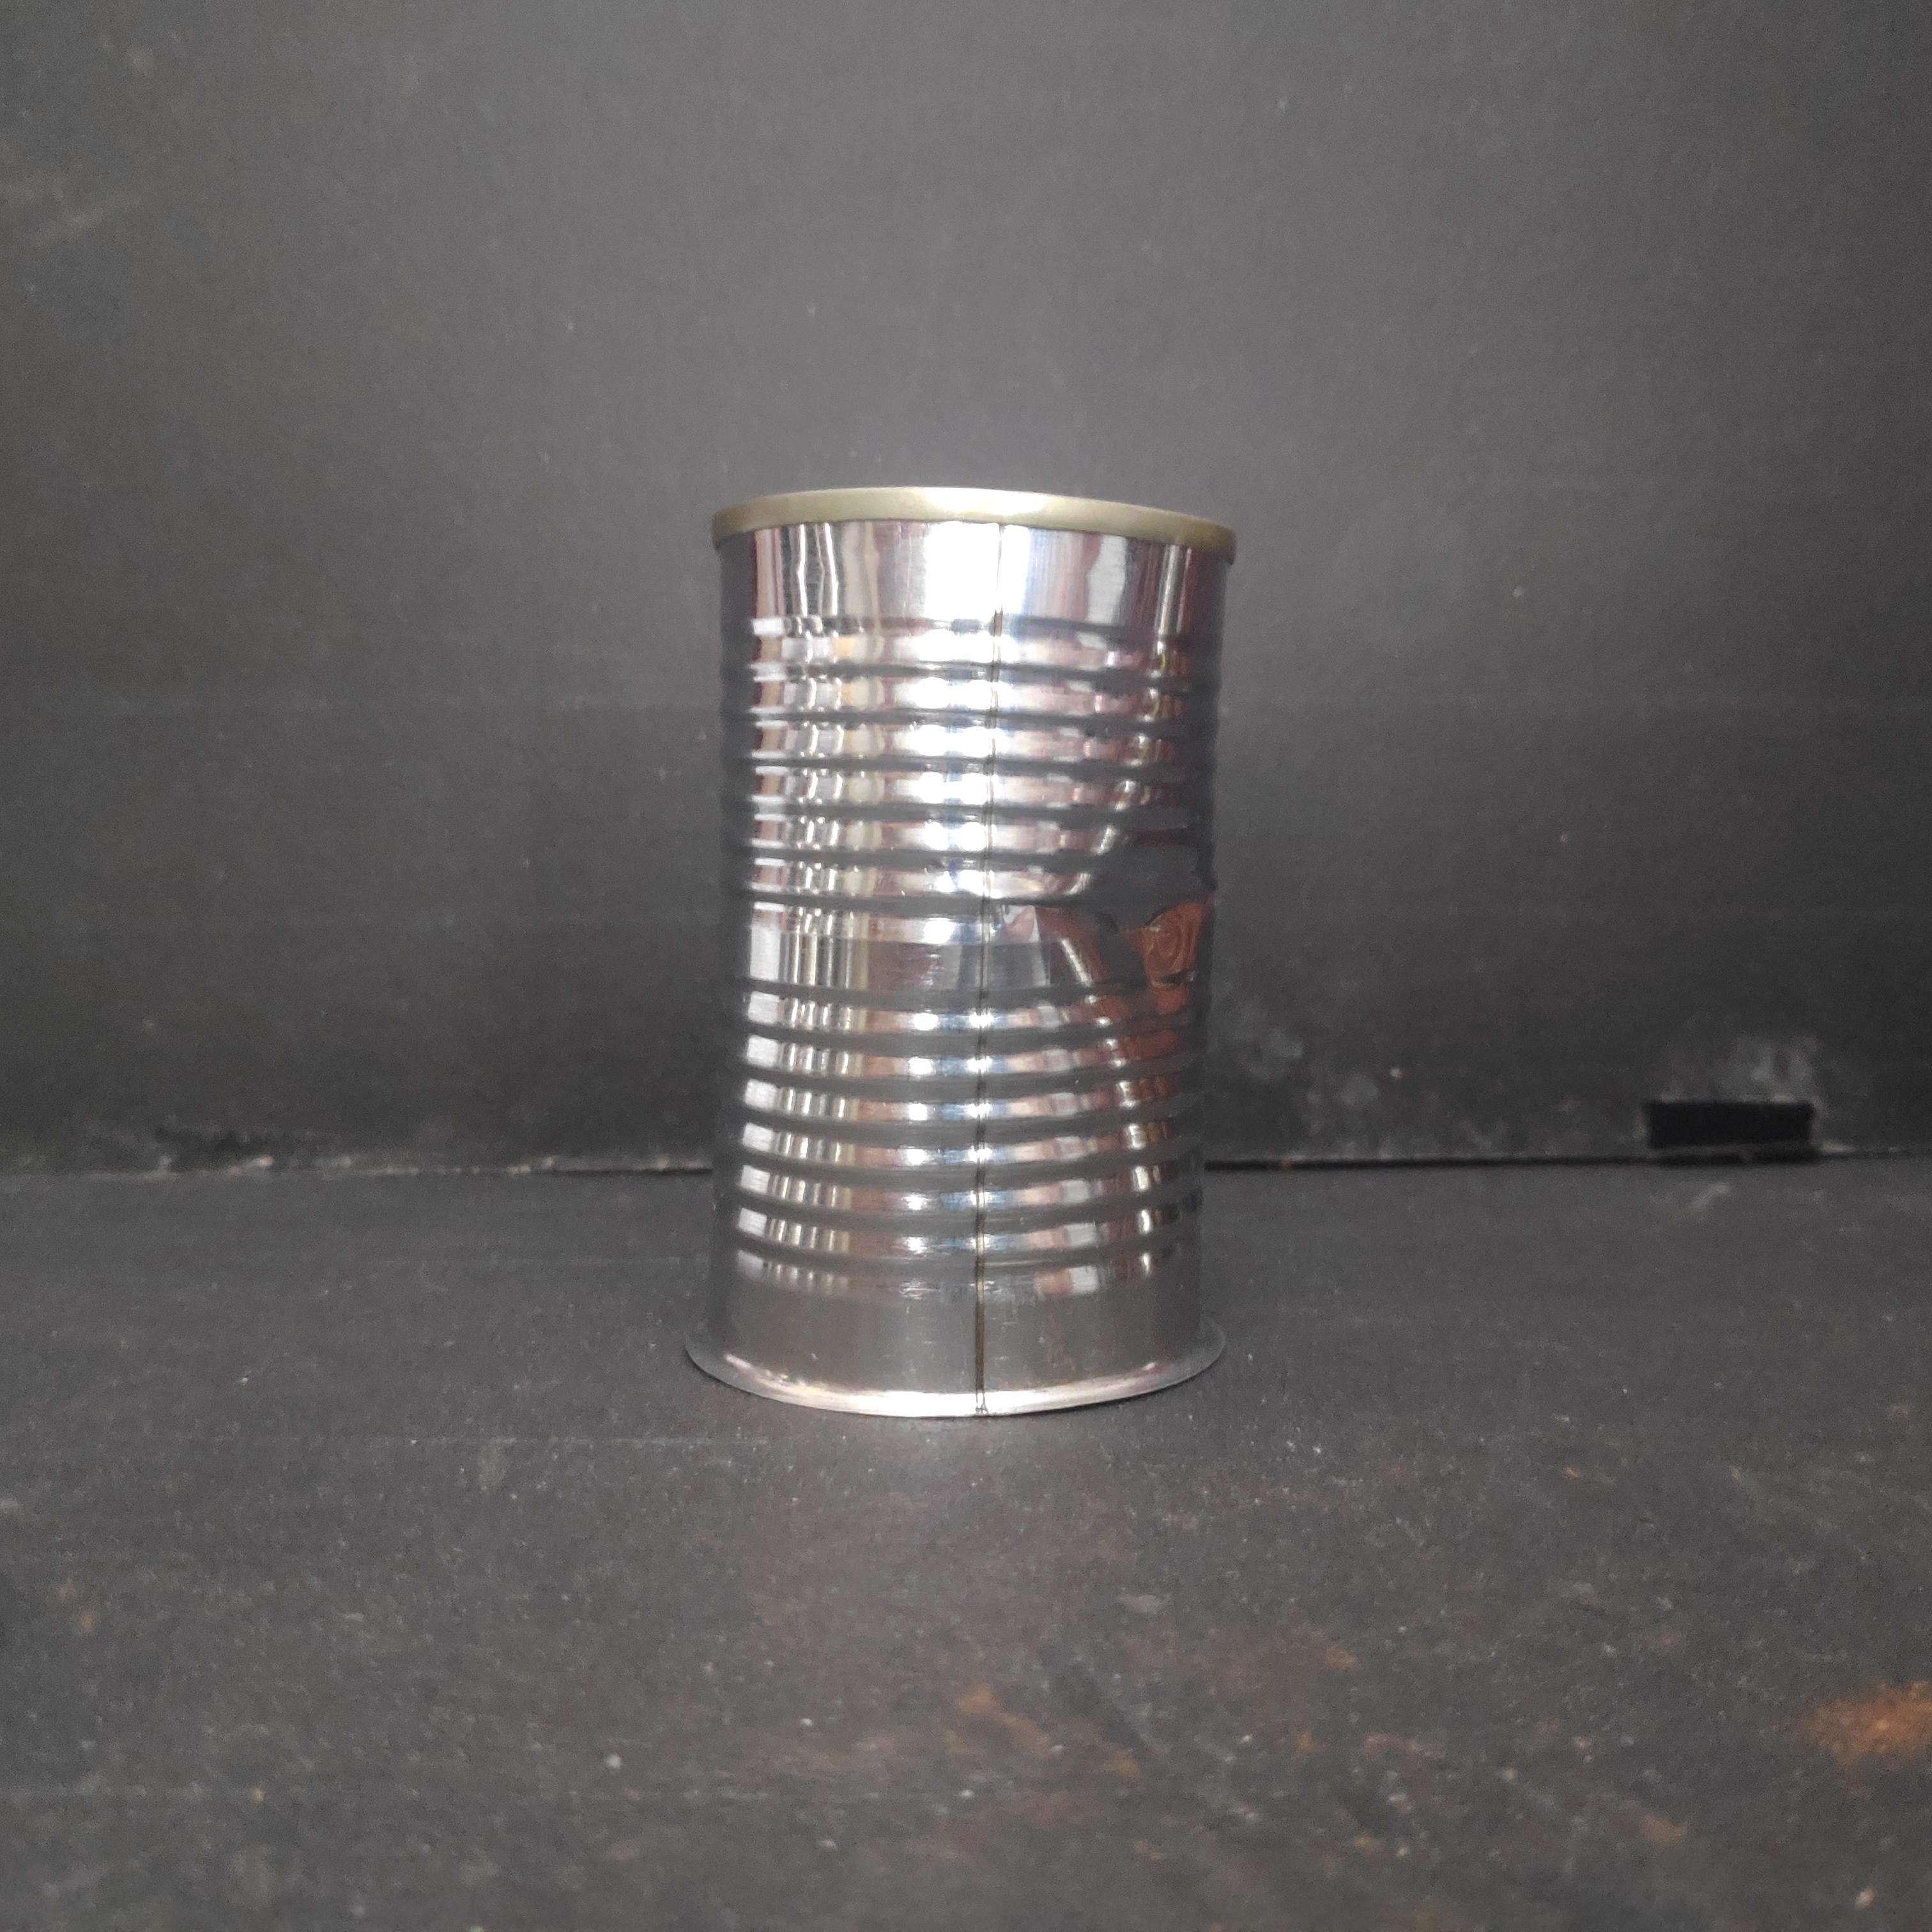Minor Defect: (694, 479, 1244, 1433)
